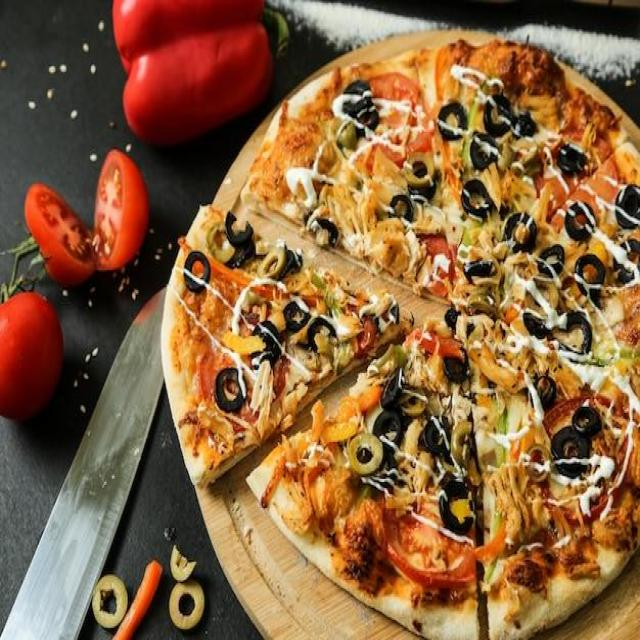olive: (552, 426, 589, 479), (344, 81, 380, 135), (439, 481, 475, 534), (93, 575, 128, 629), (169, 582, 205, 632), (555, 313, 592, 359), (405, 153, 438, 200), (349, 433, 384, 475), (249, 321, 281, 366), (215, 369, 247, 412), (575, 255, 606, 297), (505, 213, 537, 253), (462, 180, 494, 219), (483, 94, 512, 136), (208, 221, 236, 264), (613, 240, 640, 284), (615, 184, 640, 230), (565, 202, 596, 239), (437, 103, 468, 138), (374, 411, 402, 448), (170, 545, 197, 583), (225, 210, 253, 246), (308, 318, 336, 354), (186, 251, 210, 292), (425, 414, 449, 454), (258, 247, 286, 281), (558, 144, 588, 175), (470, 134, 497, 168), (282, 300, 312, 330), (376, 449, 398, 489), (572, 406, 602, 435), (526, 444, 550, 480), (451, 420, 471, 463), (537, 245, 565, 275), (529, 377, 556, 408), (382, 369, 404, 406), (462, 261, 499, 282), (445, 349, 468, 381), (312, 220, 339, 247), (402, 388, 428, 416), (523, 313, 549, 340), (278, 249, 301, 279), (511, 115, 537, 140), (390, 196, 414, 222), (444, 309, 460, 327)
pizza: (242, 37, 639, 640), (162, 203, 412, 490)
